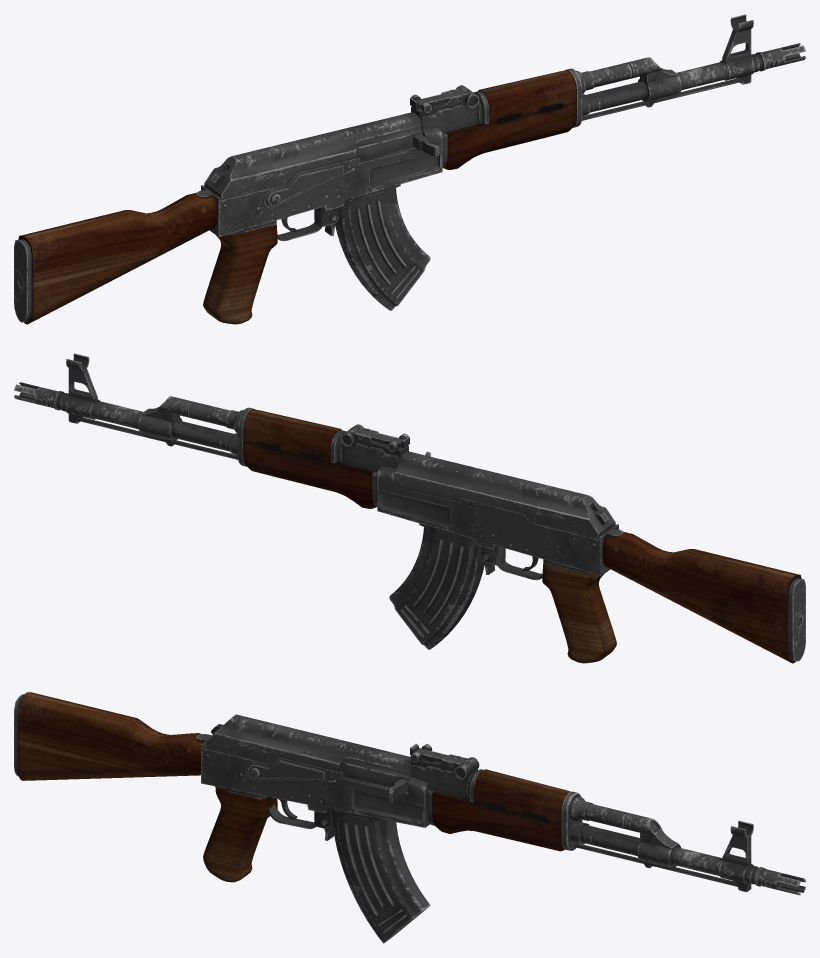
3 renders of one model, top to bottom at view 1: azimuth 30°, elevation 25°; view 2: azimuth 150°, elevation 25°; view 3: azimuth 330°, elevation 25°, orthographic.
Parts seen in each view (by area): view 1: AK_Buttstock_lp, AK_Chassis02_lp, AK_Magazine_lp, AK_Chassis01_lp, AK_TriggerHandle_lp, AK_Barrel01_lp, AK_WoodHandle_lp, AK_WoodHandle02_lp, AK_Plate_lp, AK_Barrel03_lp, AK_Sights_04_lp, AK_Barrel02_lp (+1 smaller); view 2: AK_Buttstock_lp, AK_Chassis02_lp, AK_Chassis01_lp, AK_Magazine_lp, AK_TriggerHandle_lp, AK_Barrel01_lp, AK_WoodHandle_lp, AK_WoodHandle02_lp, AK_Barrel03_lp, AK_Sights_04_lp, AK_Barrel02_lp, AK_WoodHandle03_lp; view 3: AK_Buttstock_lp, AK_Chassis02_lp, AK_Magazine_lp, AK_Chassis01_lp, AK_Barrel01_lp, AK_TriggerHandle_lp, AK_WoodHandle_lp, AK_WoodHandle02_lp, AK_Barrel03_lp, AK_Plate_lp, AK_Sights_04_lp, AK_Barrel02_lp (+1 smaller).
Boxes of the visible parts, x1,y1,x2,y2 form: AK_Buttstock_lp: (14,192,217,324); AK_Chassis02_lp: (196,126,442,236); AK_Magazine_lp: (335,188,430,310); AK_Chassis01_lp: (204,112,421,199); AK_TriggerHandle_lp: (203,207,338,324); AK_Barrel01_lp: (576,43,805,120); AK_WoodHandle_lp: (410,89,576,169); AK_WoodHandle02_lp: (473,70,576,124); AK_Plate_lp: (263,157,360,208); AK_Barrel03_lp: (627,57,681,107); AK_Sights_04_lp: (420,99,477,133); AK_Barrel02_lp: (722,14,753,84); AK_Buttstock_lp: (602,531,805,663); AK_Chassis02_lp: (377,466,623,575); AK_Chassis01_lp: (394,451,615,538); AK_Magazine_lp: (389,527,484,649); AK_TriggerHandle_lp: (481,546,616,663); AK_Barrel01_lp: (14,382,243,459); AK_WoodHandle_lp: (243,428,409,508); AK_WoodHandle02_lp: (243,409,346,463); AK_Barrel03_lp: (138,396,192,446); AK_Sights_04_lp: (342,438,399,472); AK_Barrel02_lp: (66,353,97,423); AK_WoodHandle03_lp: (237,407,377,506); AK_Buttstock_lp: (14,692,203,780); AK_Chassis02_lp: (196,734,429,827); AK_Magazine_lp: (331,809,430,943); AK_Chassis01_lp: (204,714,411,772); AK_Barrel01_lp: (569,796,805,895); AK_TriggerHandle_lp: (203,787,331,882); AK_WoodHandle_lp: (410,743,565,851); AK_WoodHandle02_lp: (466,769,570,823); AK_Barrel03_lp: (625,813,680,868); AK_Plate_lp: (246,757,342,782); AK_Sights_04_lp: (411,760,477,798); AK_Barrel02_lp: (722,820,753,892).
Size of the model in its own units: 5.01 by 1.24 by 0.3532.
Materials: 1 (1 with a texture image).
